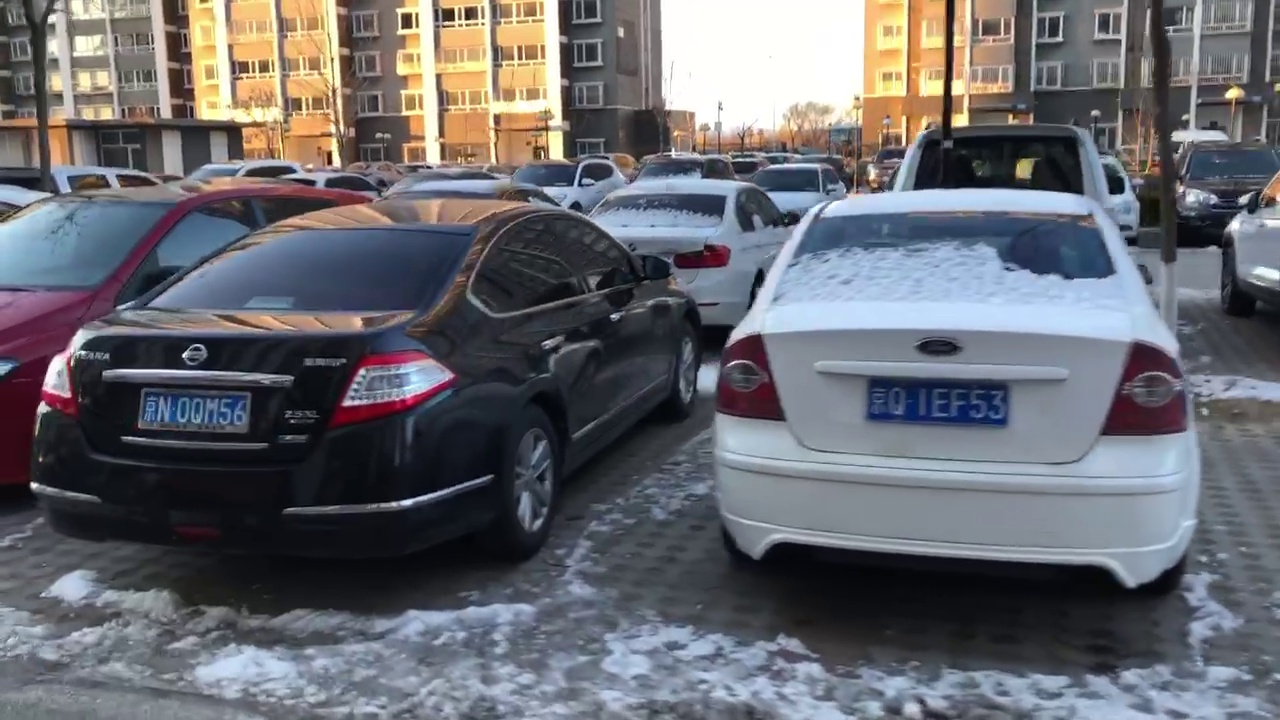plate: (866, 379, 1015, 425), (134, 391, 254, 434)
